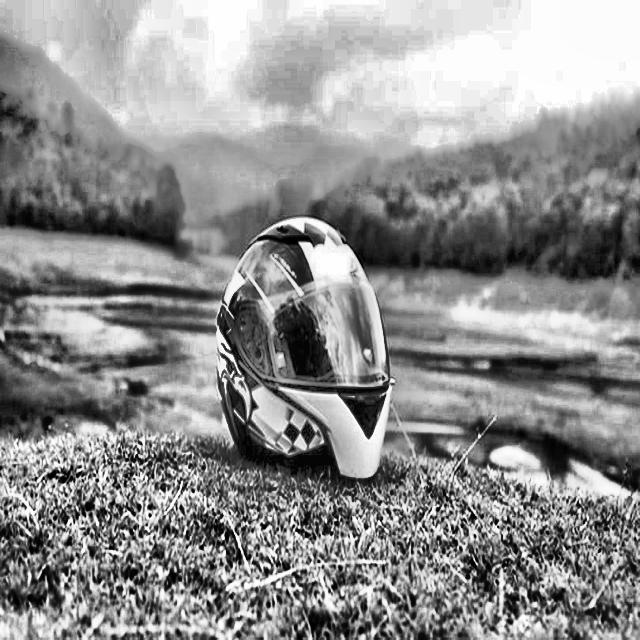Helmet: (203, 204, 401, 500)
